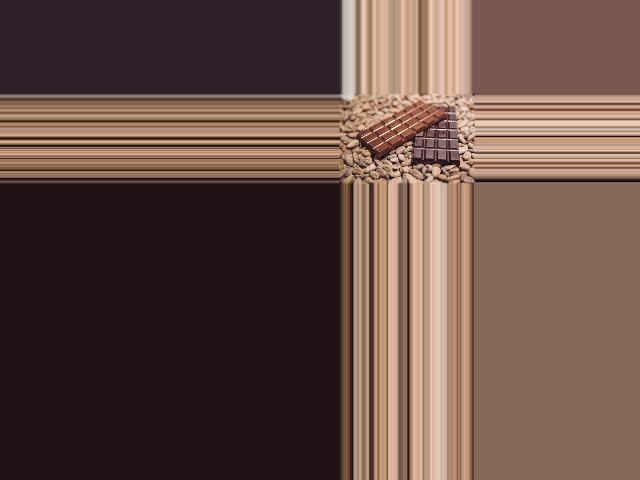chocolate: (412, 102, 465, 167)
